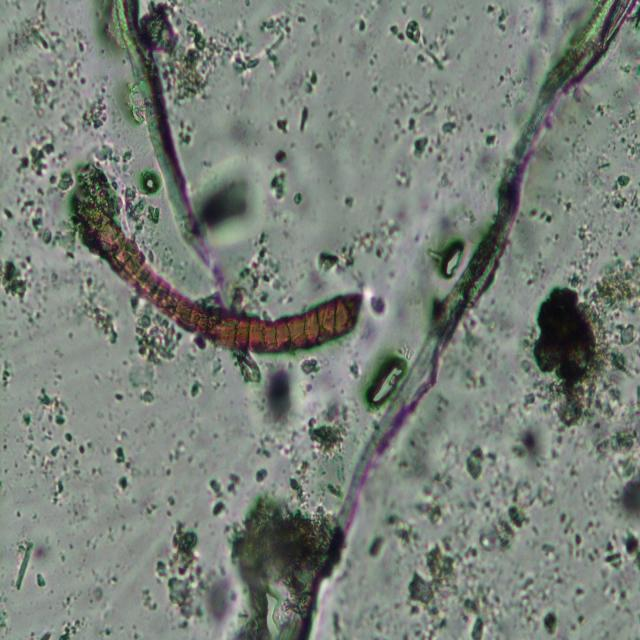Air bubble: (368, 354, 408, 404), (439, 241, 467, 280)
Background material: (235, 493, 335, 639), (407, 540, 509, 640), (18, 378, 88, 510), (527, 284, 613, 390), (15, 10, 85, 131), (312, 206, 404, 286), (151, 0, 219, 105), (0, 190, 80, 266), (155, 521, 211, 629), (480, 477, 554, 552), (197, 158, 261, 241), (521, 378, 627, 428), (451, 305, 511, 389), (232, 231, 290, 313), (590, 384, 640, 478), (390, 2, 459, 68), (0, 242, 51, 330), (397, 392, 452, 472), (255, 362, 302, 454), (526, 0, 588, 66), (120, 150, 162, 245), (130, 296, 182, 364), (16, 136, 74, 196), (214, 20, 264, 84), (410, 106, 463, 164), (388, 81, 440, 139), (260, 7, 305, 69), (568, 208, 600, 290), (597, 252, 640, 310), (442, 485, 480, 546), (307, 402, 347, 457), (414, 470, 456, 522), (78, 73, 116, 130), (12, 537, 52, 591), (508, 576, 550, 627), (206, 467, 244, 521), (508, 423, 548, 474), (205, 563, 238, 623), (609, 104, 640, 160), (607, 526, 640, 578), (267, 141, 291, 210), (439, 202, 482, 240), (477, 399, 517, 438), (497, 64, 531, 107), (290, 456, 318, 507), (605, 342, 640, 382), (465, 442, 503, 478), (298, 67, 318, 133), (231, 352, 268, 387), (87, 143, 131, 172), (433, 441, 463, 483), (386, 513, 420, 550), (532, 1, 558, 49), (601, 172, 631, 213), (541, 542, 565, 590), (523, 246, 549, 290), (132, 365, 158, 408), (54, 608, 88, 640), (602, 580, 632, 616), (563, 136, 595, 168), (115, 446, 135, 496), (352, 2, 382, 34), (545, 421, 567, 464), (181, 355, 202, 399), (174, 112, 198, 149), (483, 2, 511, 33), (620, 477, 640, 517), (294, 356, 322, 384), (480, 121, 504, 152), (368, 600, 390, 633), (0, 359, 18, 395), (516, 5, 534, 40), (524, 43, 542, 76), (555, 510, 577, 537), (564, 456, 582, 488), (572, 172, 604, 190), (393, 165, 415, 191), (138, 582, 157, 612), (580, 486, 598, 516), (368, 533, 386, 562), (566, 84, 588, 107), (542, 611, 562, 636), (594, 150, 612, 177), (570, 586, 588, 612), (556, 190, 577, 212), (615, 321, 635, 344), (605, 488, 622, 515), (290, 188, 310, 210), (337, 557, 355, 581), (529, 206, 553, 224), (616, 217, 634, 241), (627, 185, 640, 218), (585, 517, 602, 542), (572, 529, 586, 559), (332, 611, 346, 640), (566, 615, 588, 632), (275, 112, 291, 135), (577, 118, 593, 136), (593, 103, 611, 118), (586, 548, 602, 564), (255, 466, 267, 486), (543, 232, 560, 246), (34, 570, 46, 589), (611, 84, 625, 100), (370, 79, 384, 94), (554, 167, 568, 181), (38, 630, 55, 640), (566, 112, 578, 126), (367, 52, 378, 67), (392, 600, 404, 613), (600, 566, 612, 579), (634, 384, 640, 409), (620, 63, 632, 74), (609, 247, 619, 260), (610, 311, 620, 320), (401, 630, 409, 640), (635, 62, 640, 78)
Cellulose filter fibre: (310, 0, 639, 606), (114, 1, 216, 260)
Hair: (75, 182, 367, 352)
